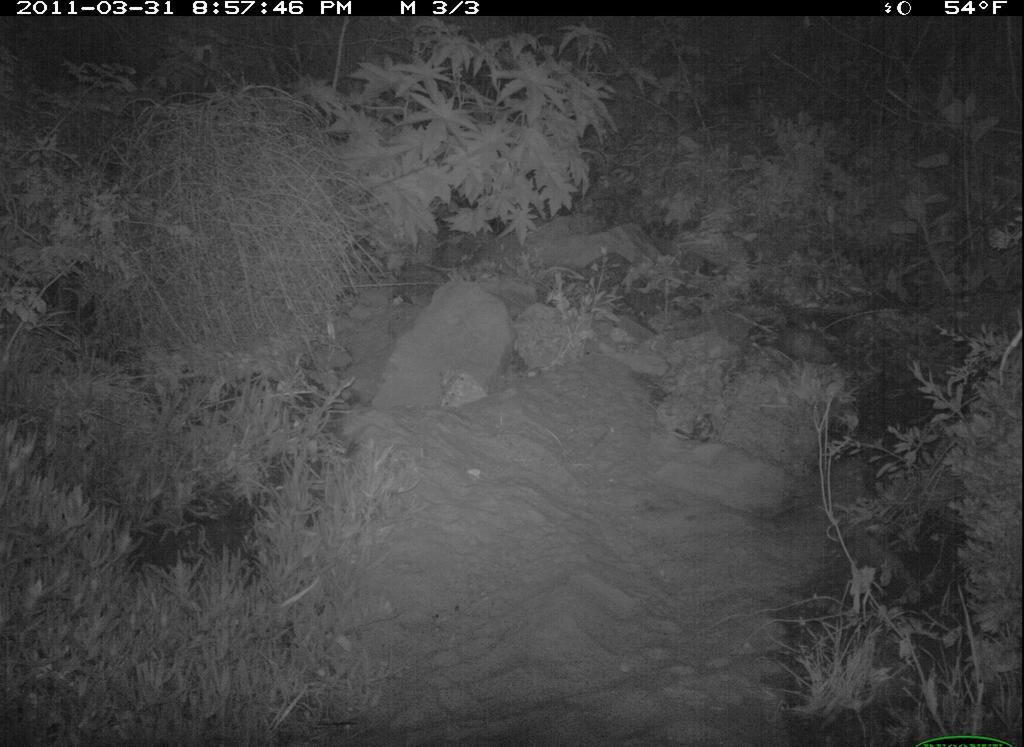opossum: (748, 308, 854, 377)
